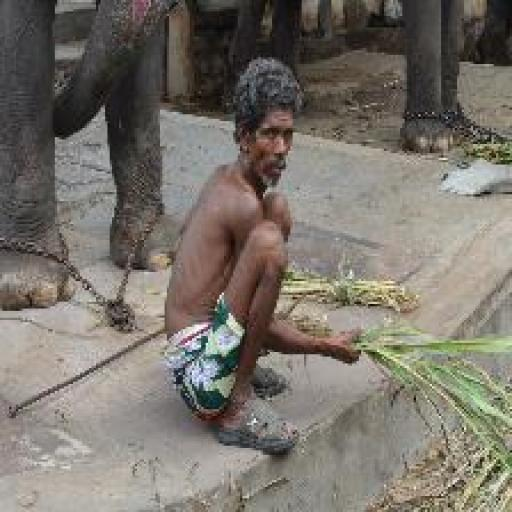Elephant: (0, 0, 510, 309)
